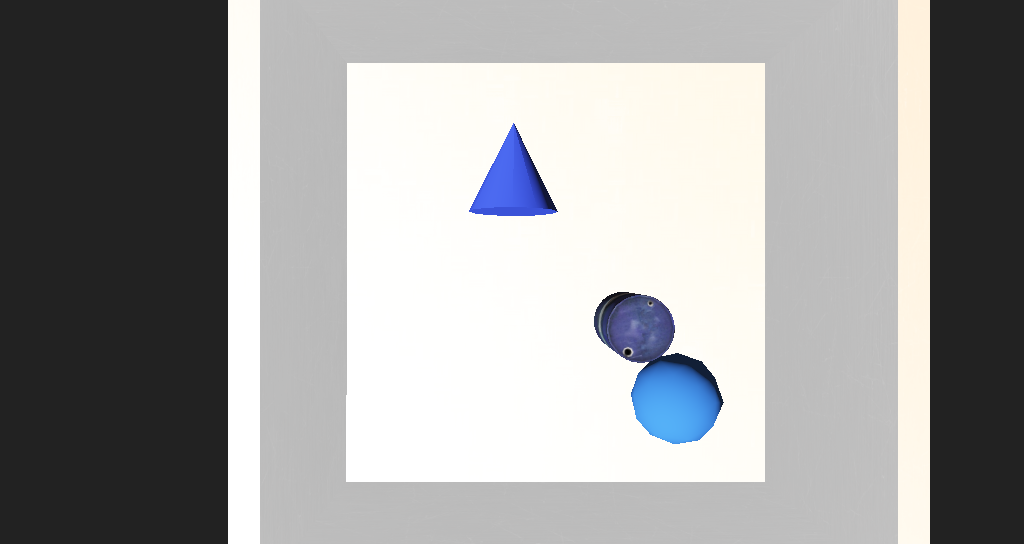cone: (536, 279, 583, 313)
cylinder: (448, 191, 509, 239)
sphere: (563, 313, 623, 356)
